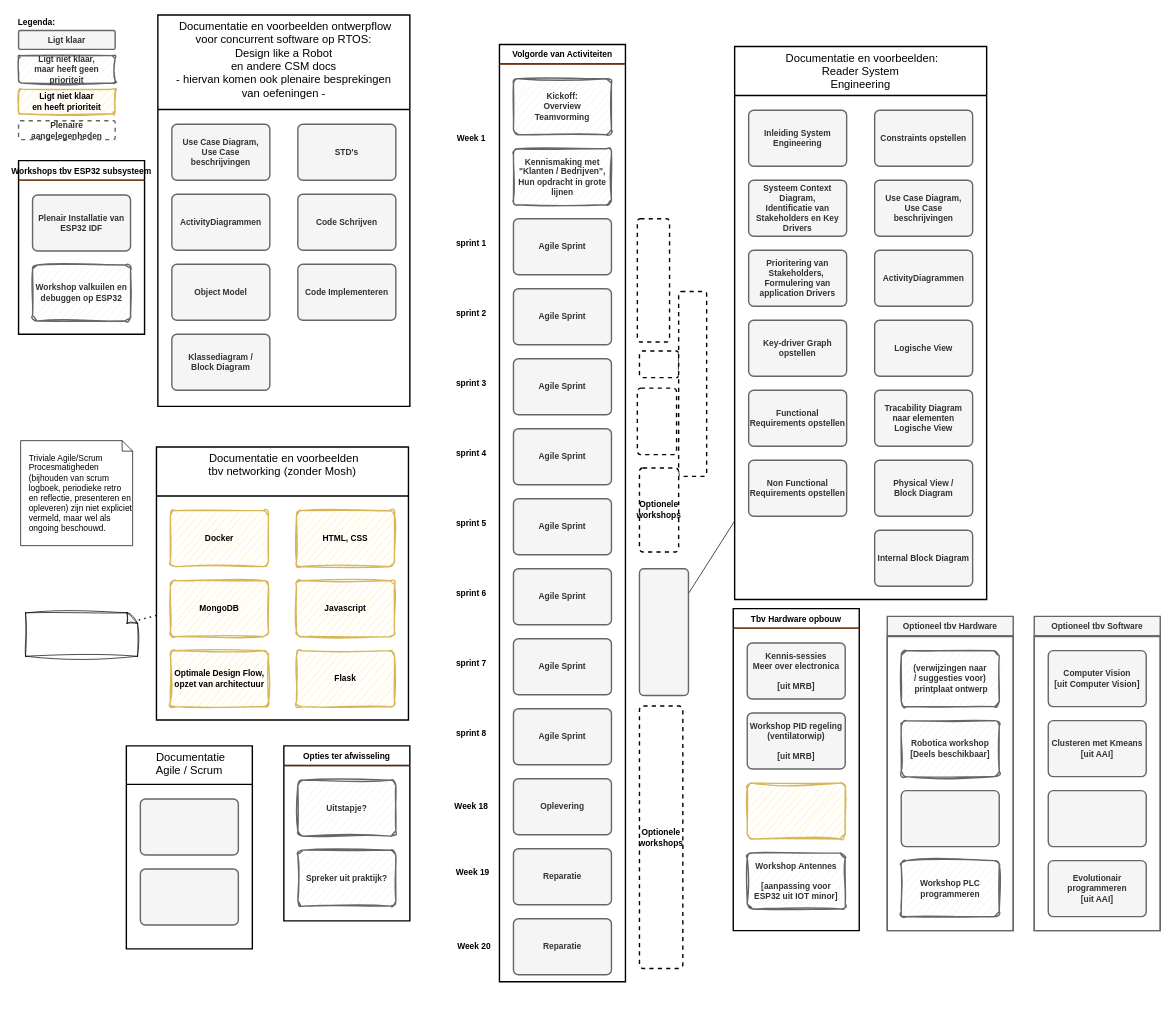
The diagram is 1173 pixels wide and 1013 high, and some of its shapes have lost their labels. Each missing label, with the centre of its shape:
Aansturing (bldc) motoren, werkende voorbeelden: point 796,810
Bespre-kingen CSM oefe-ningen: point 692,383
Canvas toegang vragen bij SD cursussen: point 81,634
Classificatie met eenvoudig neuraal netwerkje [uit AAI]: point 1097,818
ESP32 workshops: point 656,421
Kennis sessies elec- tronica: point 653,280
Oefening "Kleine Waterval" op submodule: point 663,632
Scrum Proces [uit Scrum for Schools]: point 189,826
User Stories [uit Thema Opracht Gaming]: point 189,896
Workshop PID: point 658,364
Workshops Digitale Electronica [uit DIT]: point 950,818
